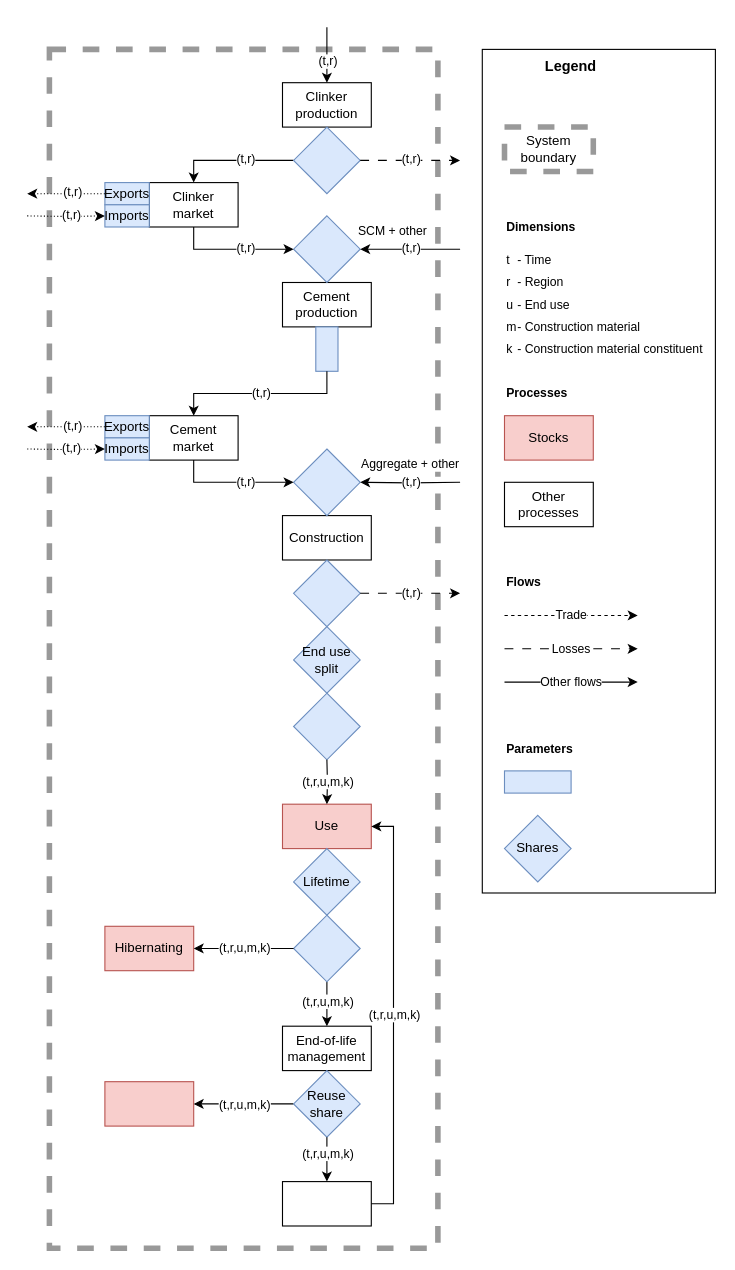
Some shapes in this 735 by 1270 pixel diagram are drawn without their labels. Here are the shapes that lost their labels. From the top down, the box of each, then its label:
(292, 126, 360, 194): Clinker loss rate
(292, 215, 360, 282): Clinker ratio
(315, 326, 338, 371): Production
(292, 448, 360, 516): Cement ratio
(292, 559, 360, 627): Cement loss rate
(292, 692, 360, 760): Construction material split
(503, 770, 571, 793): Absolute
(292, 914, 360, 982): Hibernation share
(104, 1081, 194, 1126): End-of-life waste
(281, 1180, 371, 1226): Reuse
